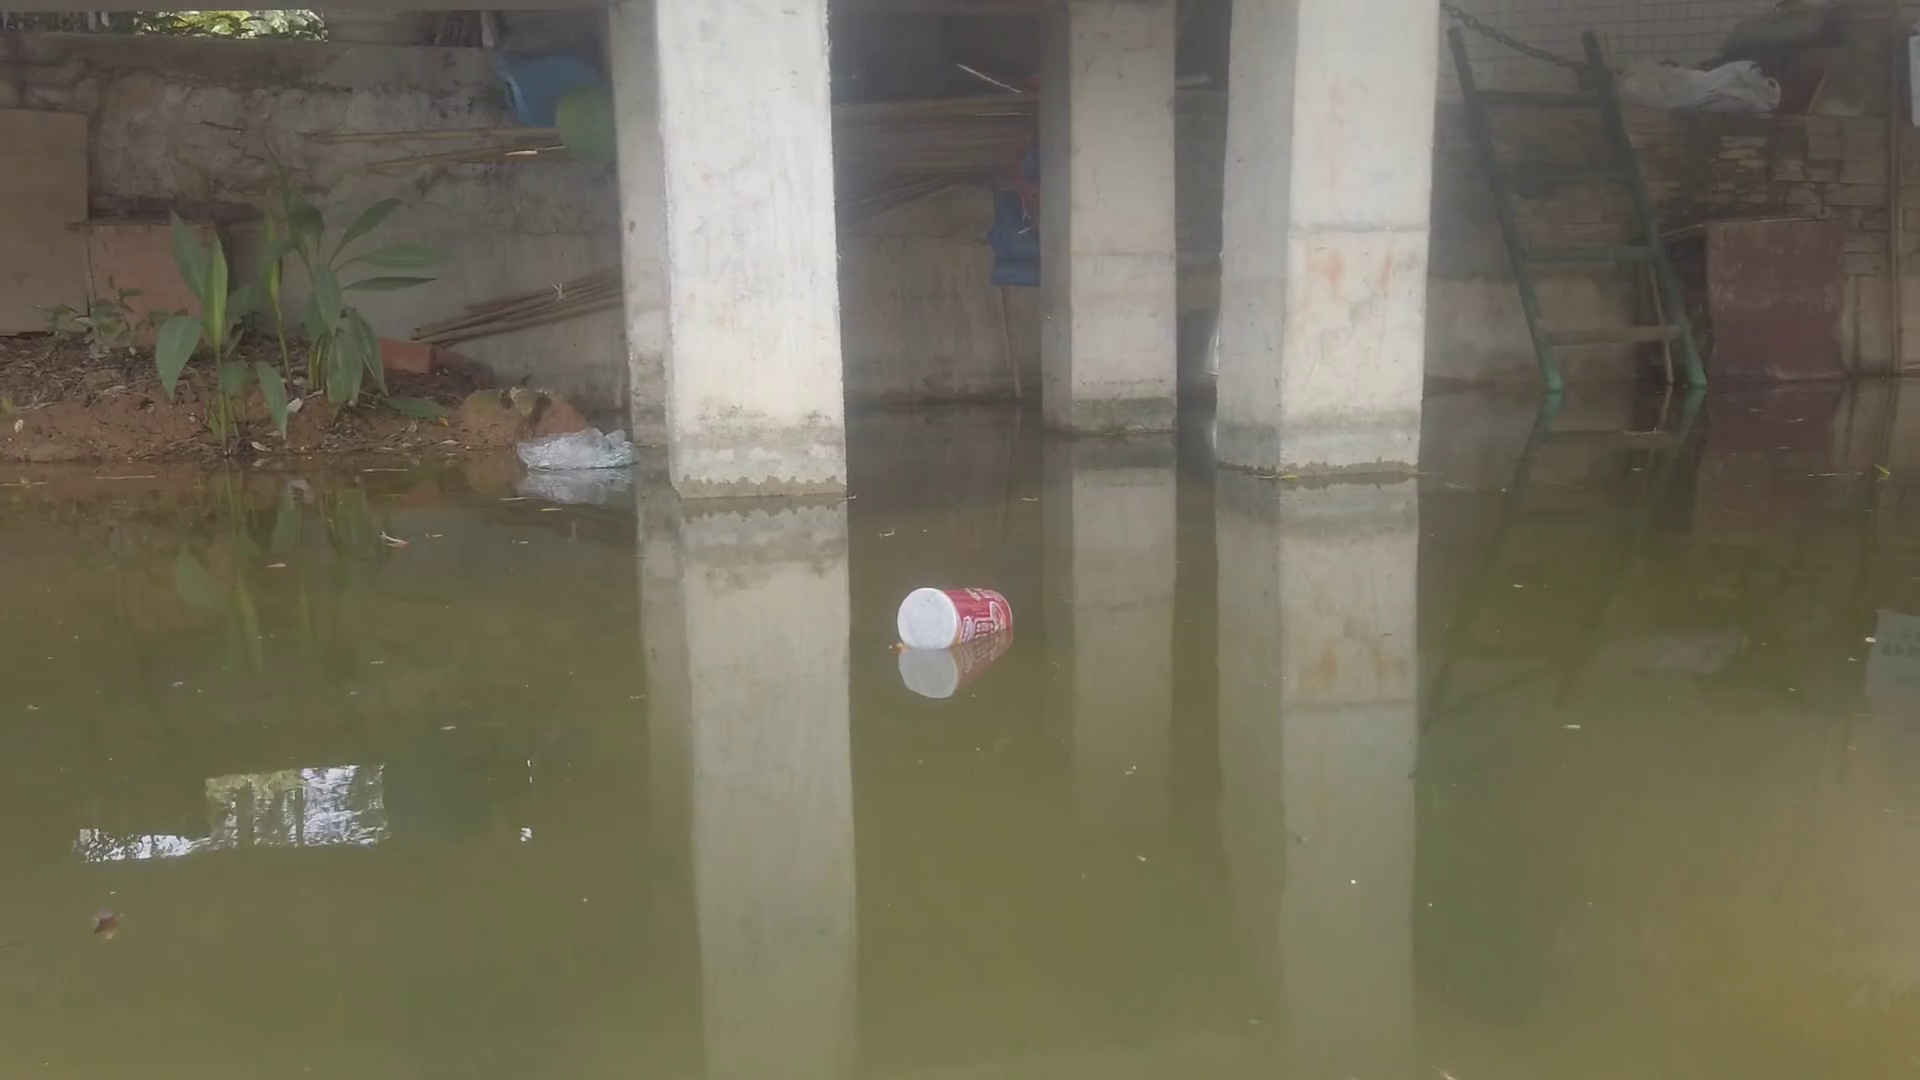bottle: (865, 579, 1021, 653)
plastic: (513, 430, 651, 480)
